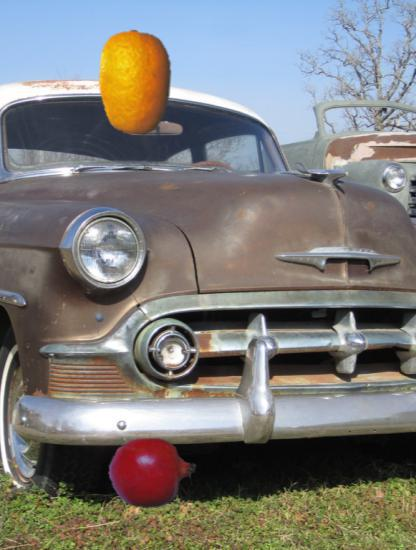Kumquats: (83, 30, 188, 135)
Pomegranate: (107, 428, 198, 519)
